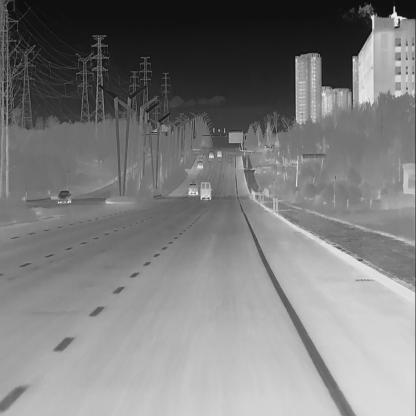car: (200, 180, 212, 199), (57, 189, 72, 204), (188, 182, 198, 195), (208, 152, 215, 160), (216, 150, 222, 158)
truck: (197, 160, 203, 169)
